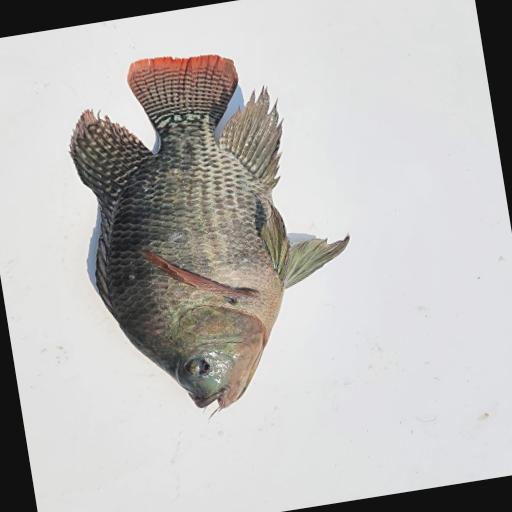Tilapia: (55, 30, 374, 431)
